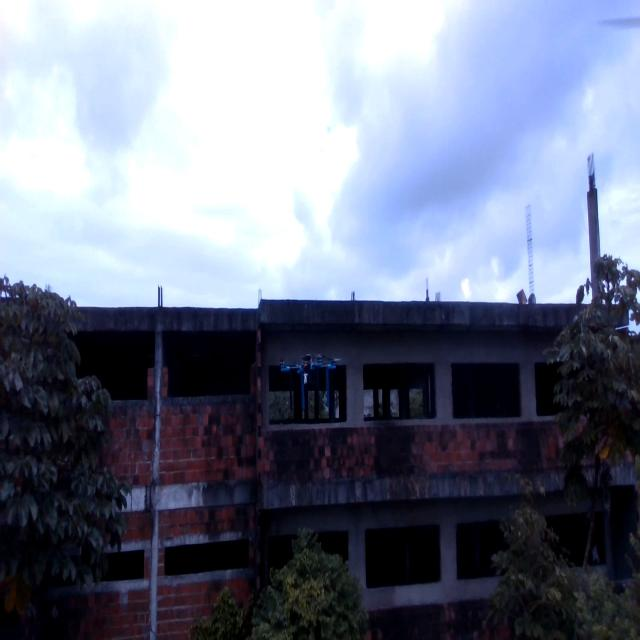-uav-: (276, 347, 342, 416)
